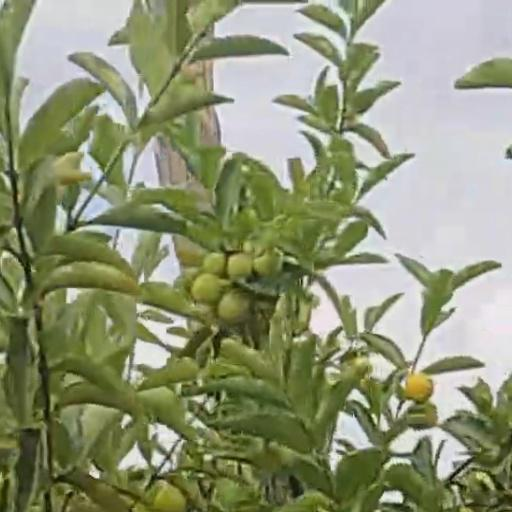acerola_verde: (219, 294, 250, 323), (193, 275, 220, 303), (154, 486, 185, 510), (229, 255, 252, 278), (202, 252, 221, 274)
acerola_vermelha: (406, 374, 431, 401)
